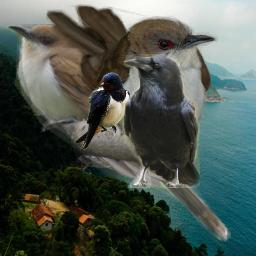Crow: (122, 54, 200, 188)
Cuckoo: (6, 24, 231, 242), (46, 4, 218, 157)
Swallow: (74, 72, 131, 152)
